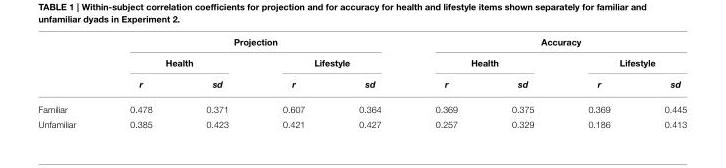table: (37, 37, 686, 128)
table column: (254, 37, 331, 128), (407, 37, 484, 128), (102, 37, 178, 128), (178, 37, 254, 128), (331, 37, 407, 128), (484, 37, 560, 128), (560, 37, 636, 128), (37, 37, 102, 128), (636, 37, 686, 128)
table column header: (37, 37, 686, 96)
table row: (37, 73, 686, 96), (37, 52, 686, 73), (37, 96, 686, 116), (37, 37, 686, 52), (37, 116, 686, 128)
table spanning cell: (102, 37, 407, 52), (407, 37, 686, 52), (254, 52, 407, 73), (407, 52, 560, 73), (102, 52, 254, 73), (560, 52, 686, 73)
